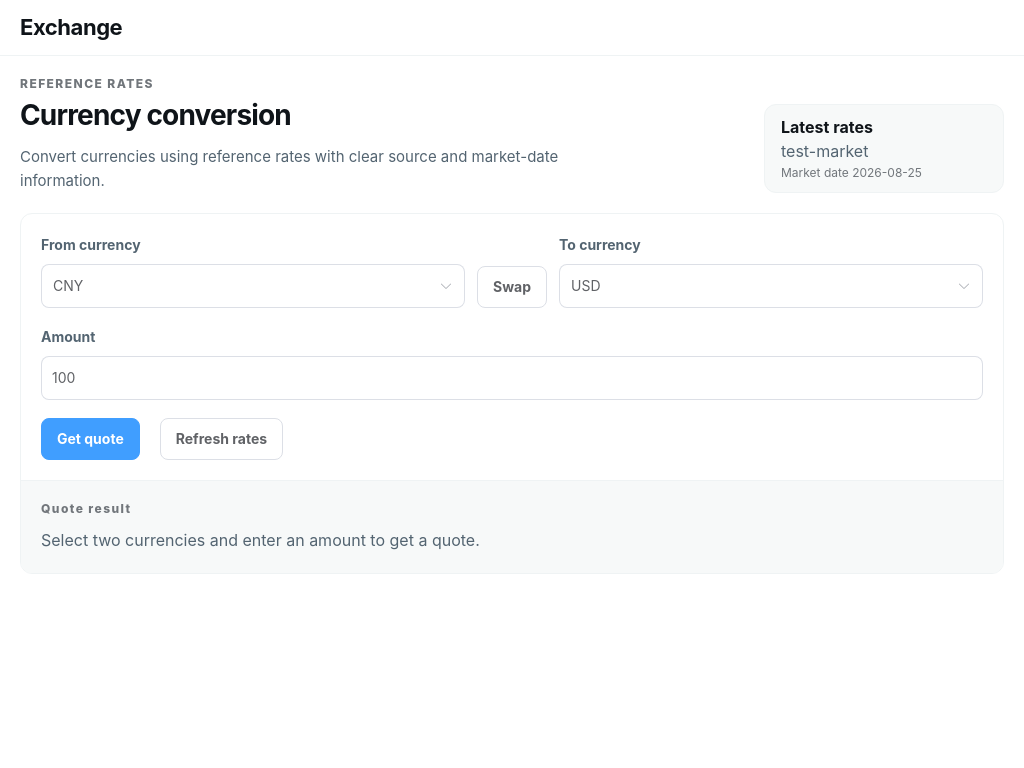
Test: LiveExchangeView › validates a swap in the View before requesting the swapped quote
Submit the form, box top-left (21, 214), bottom-right (1003, 480)
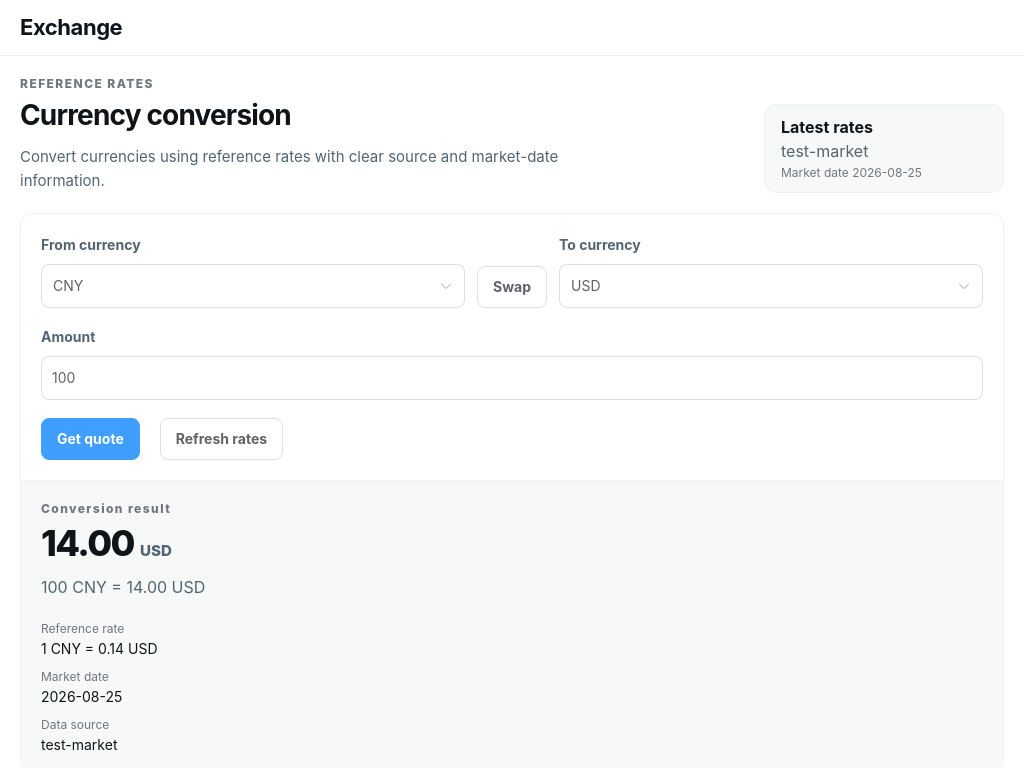
Click the button with class "swap-button". click: (512, 287)
box: top-left (477, 266), bottom-right (547, 308)
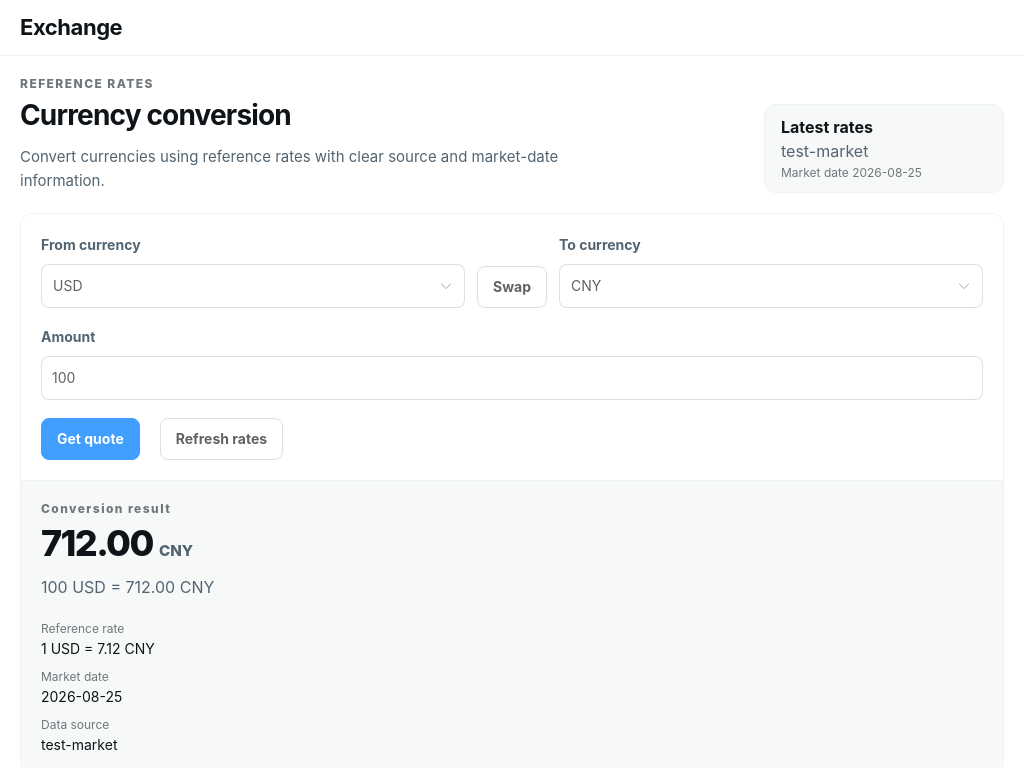
expect the text "712.00 CNY" is shown: met, box top-left (41, 521), bottom-right (193, 565)
